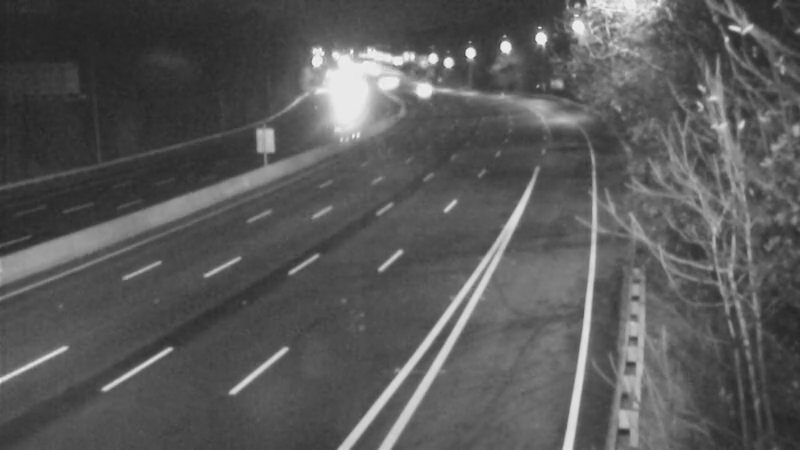vehicle: (400, 68, 450, 118), (321, 84, 371, 134)
